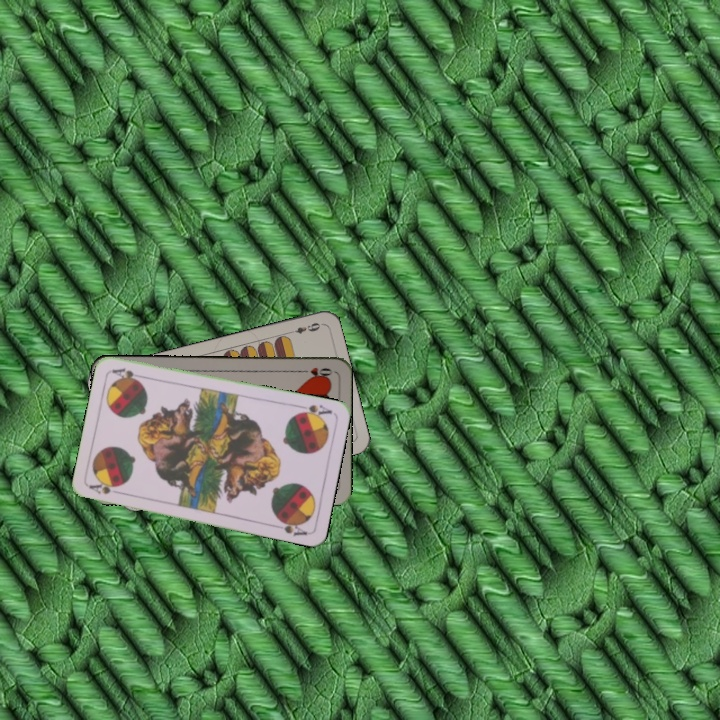E9: (284, 318, 324, 337)
HO: (295, 363, 335, 380)
SA: (294, 401, 335, 421), (86, 479, 126, 497)
